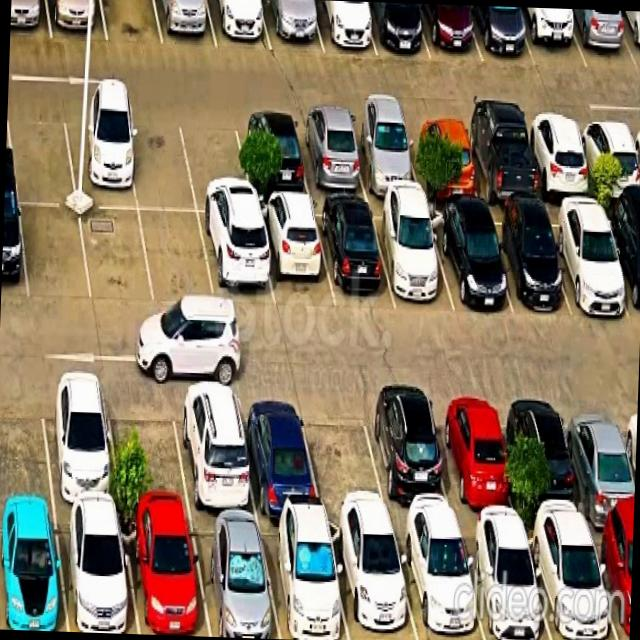empty: (299, 390, 389, 521), (105, 379, 190, 514), (178, 111, 253, 214), (124, 109, 196, 210), (80, 208, 153, 306), (139, 211, 215, 305), (7, 103, 76, 204), (0, 375, 53, 506), (20, 204, 91, 301), (101, 0, 162, 44)
occupied: (361, 391, 457, 522), (429, 391, 519, 525), (171, 381, 257, 516), (189, 516, 280, 639), (235, 385, 321, 515), (505, 391, 588, 525), (39, 375, 120, 510), (120, 514, 209, 636), (327, 520, 417, 640), (259, 519, 348, 640), (459, 524, 551, 640), (524, 525, 616, 640), (393, 524, 484, 640), (55, 510, 138, 634), (560, 394, 635, 525), (543, 205, 631, 315), (426, 208, 513, 314), (370, 204, 454, 312), (482, 209, 569, 313), (255, 201, 334, 309), (313, 202, 395, 306), (0, 510, 67, 631), (62, 106, 137, 208), (198, 214, 274, 308), (460, 118, 540, 203), (234, 113, 310, 197), (404, 117, 480, 200), (293, 114, 368, 196), (346, 114, 421, 195), (522, 118, 595, 199), (575, 118, 640, 200), (588, 524, 633, 640), (601, 205, 640, 320), (565, 8, 637, 69), (516, 7, 586, 68), (469, 5, 535, 65), (363, 1, 430, 58), (418, 3, 482, 61), (311, 0, 376, 55), (206, 0, 271, 49), (261, 0, 322, 50), (154, 0, 216, 48), (1, 199, 27, 300), (46, 0, 107, 40), (10, 0, 51, 38), (617, 10, 640, 68)
